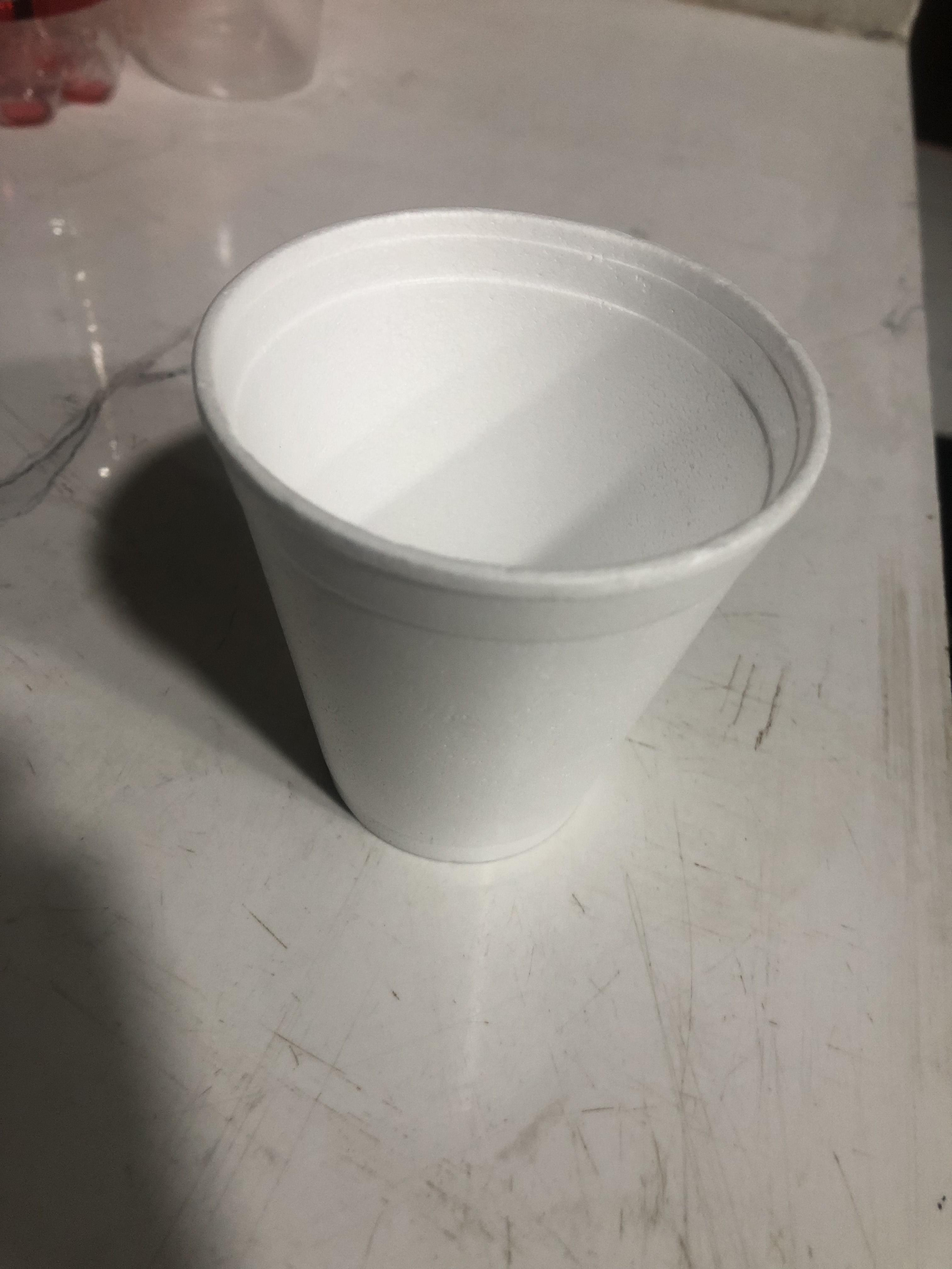cup-disposable: (190, 204, 834, 868)
